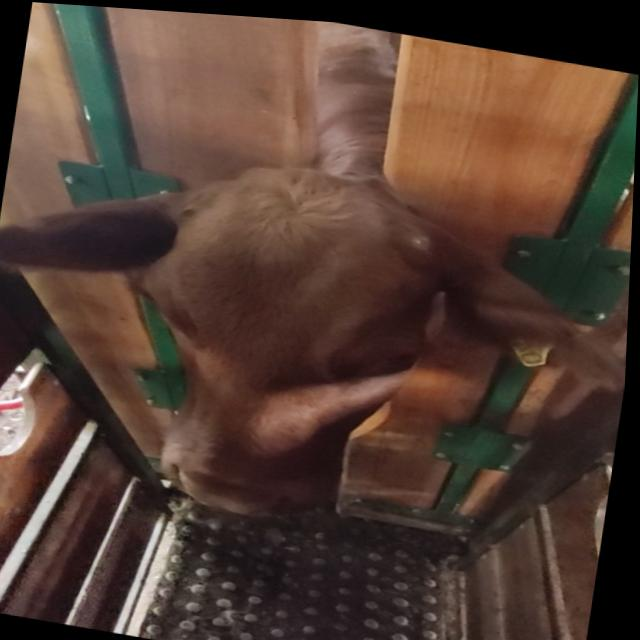cowFace: (106, 142, 453, 535)
